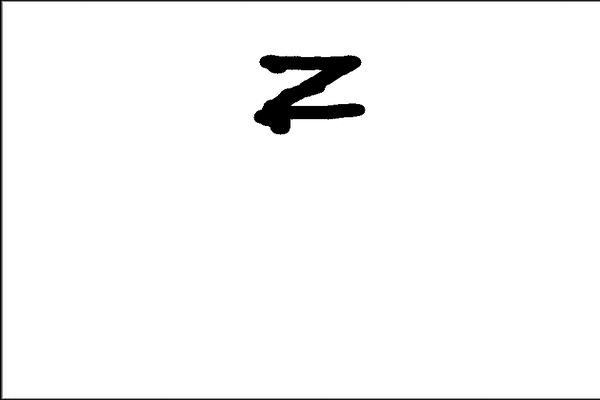Z: (247, 42, 370, 147)
